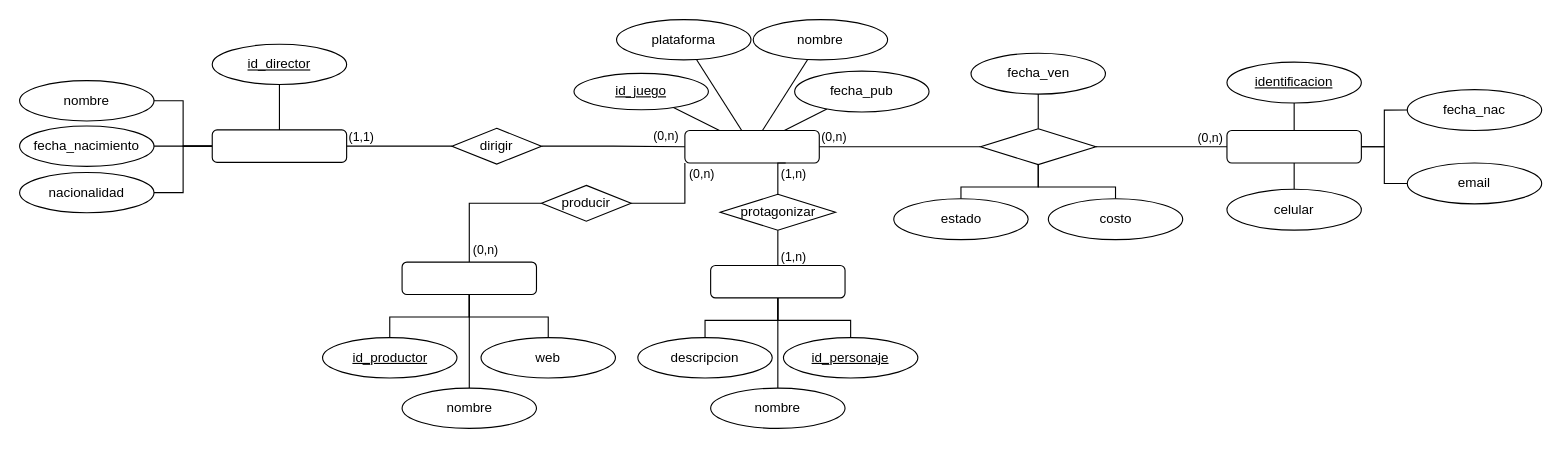
Image size: 1561x457. Some labels were removed from this diagram. Here are the shapes that lost their labels. From the top down, the box of each, then its label:
(211, 129, 347, 162): Director
(684, 129, 819, 163): Juego
(979, 128, 1096, 165): arrendar
(1226, 129, 1361, 163): Cliente
(401, 261, 536, 295): Productor
(710, 264, 845, 298): Personaje
